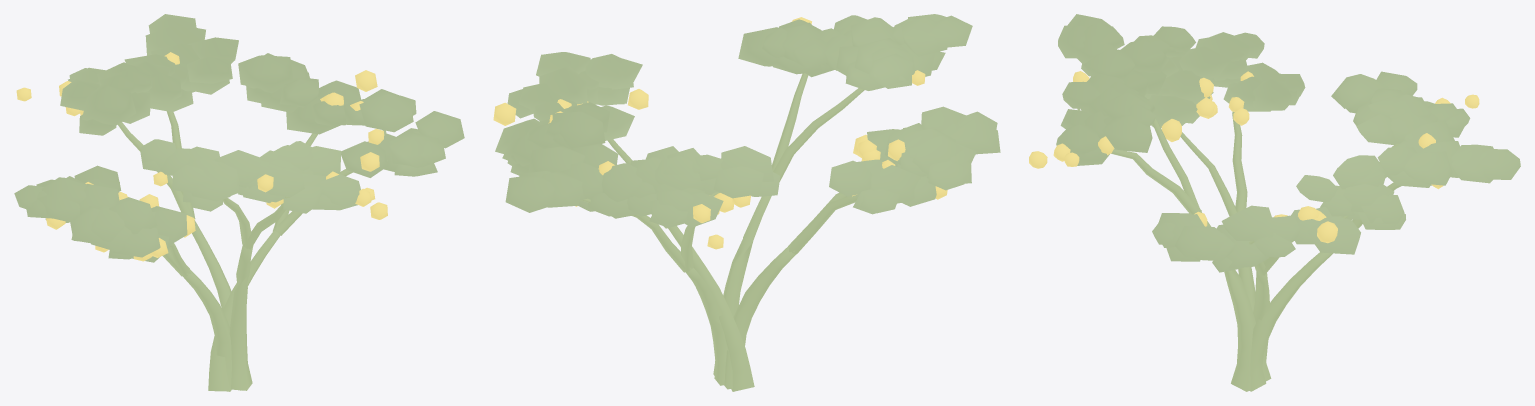
File: Blender_Palo_2_Far.glb
3 renders of one model, left to right at view 1: azimuth 30°, elevation 25°; view 2: azimuth 150°, elevation 25°; view 3: azimuth 270°, elevation 25°, orthographic. The views are drawn at different scales.
Visible parts, largest first — view 1: Blender_Palo_2_Far; view 2: Blender_Palo_2_Far; view 3: Blender_Palo_2_Far.
Part boxes in pixels (x1,y1,x2,y2): Blender_Palo_2_Far: (14, 14, 464, 391); Blender_Palo_2_Far: (493, 14, 1000, 391); Blender_Palo_2_Far: (1029, 14, 1520, 391).
Size of the model in its own units: 7.21 by 5.11 by 7.34.
